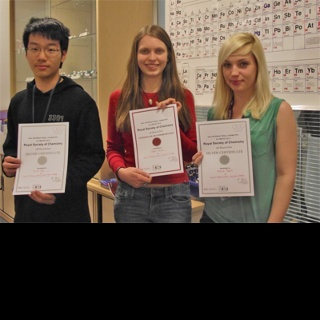without_mask: (27, 35, 61, 78), (137, 35, 167, 76)
